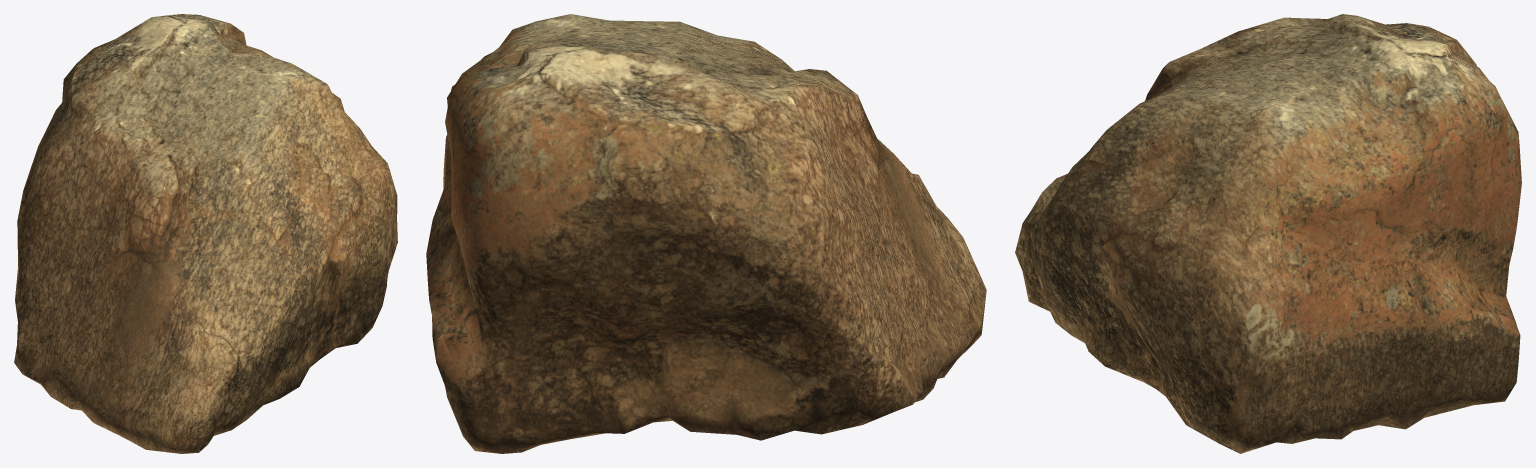
The model's file is mm6_deco_rock01.glb.
3 renders of one model, left to right at view 1: azimuth 30°, elevation 25°; view 2: azimuth 150°, elevation 25°; view 3: azimuth 270°, elevation 25°, orthographic. The views are drawn at different scales.
Visible parts, largest first — view 1: Rock; view 2: Rock; view 3: Rock.
Boxes of the visible parts, box(x1,y1,x2,y2) form: Rock: box(14, 14, 397, 453); Rock: box(426, 14, 986, 453); Rock: box(1015, 14, 1521, 453).
Bounding box in the file's own units: 2.5 × 1.88 × 2.52.
1 material, 1 textured.
